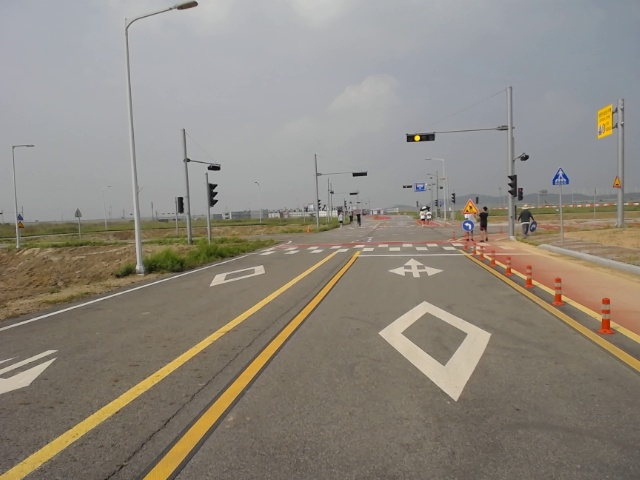orange_4: (406, 132, 437, 144)
